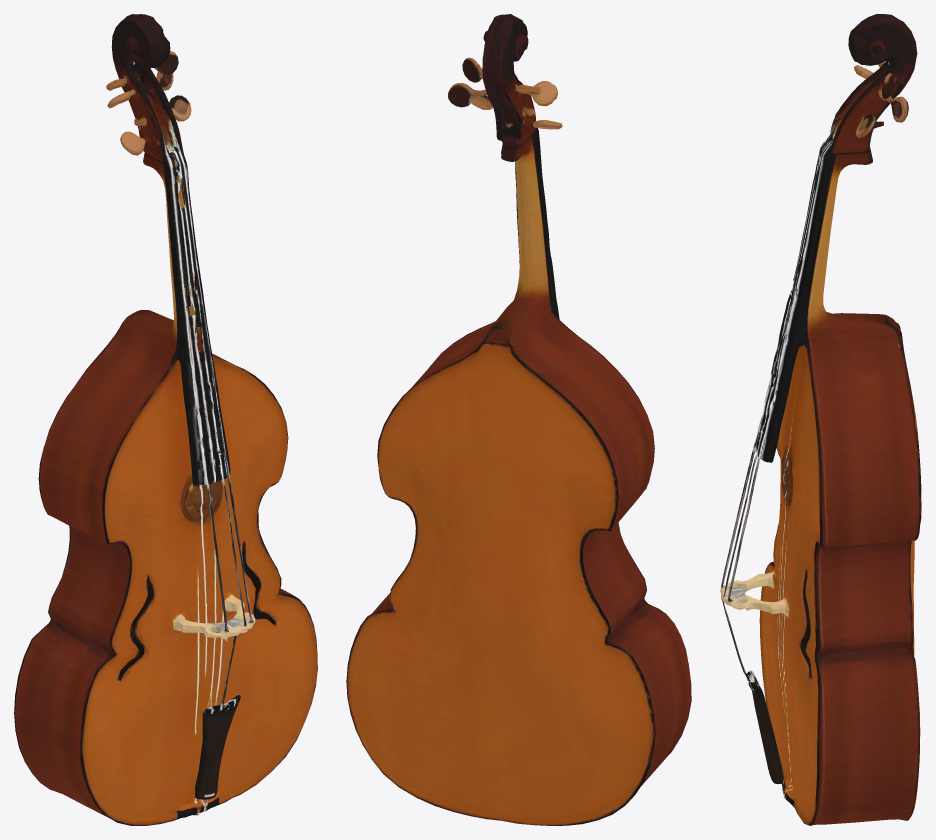
File: contrabajo.glb
3 views of the same model, side by side, from view 1: azimuth 30°, elevation 25°; view 2: azimuth 150°, elevation 25°; view 3: azimuth 270°, elevation 25° (orthographic). The views are drawn at different scales.
Visible parts, largest first — view 1: tripo_node_83d3b35f-64ed-40e8-9c67-8e81f5eca94f; view 2: tripo_node_83d3b35f-64ed-40e8-9c67-8e81f5eca94f; view 3: tripo_node_83d3b35f-64ed-40e8-9c67-8e81f5eca94f.
Part boxes in pixels (<box>): tripo_node_83d3b35f-64ed-40e8-9c67-8e81f5eca94f: <box>14,14,317,825</box>; tripo_node_83d3b35f-64ed-40e8-9c67-8e81f5eca94f: <box>346,14,691,825</box>; tripo_node_83d3b35f-64ed-40e8-9c67-8e81f5eca94f: <box>720,14,921,825</box>.
Bounding box in the file's own units: 0.3687 × 0.9776 × 0.2255.
1 material, 1 textured.
